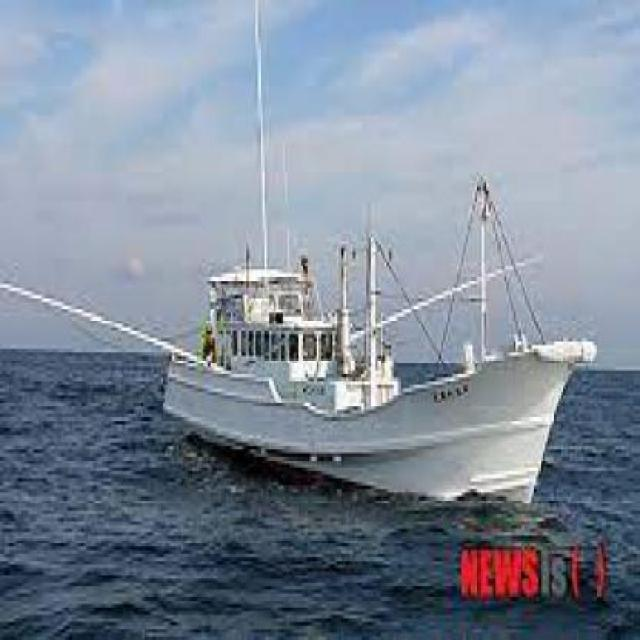fish-b: (157, 156, 610, 537)
